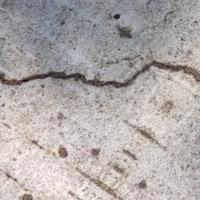crack: (0, 52, 199, 111)
